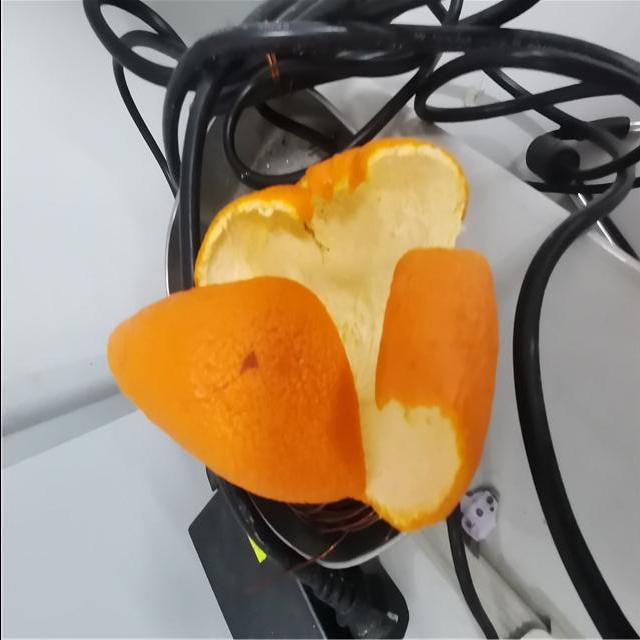orange peel: (106, 132, 500, 530)
